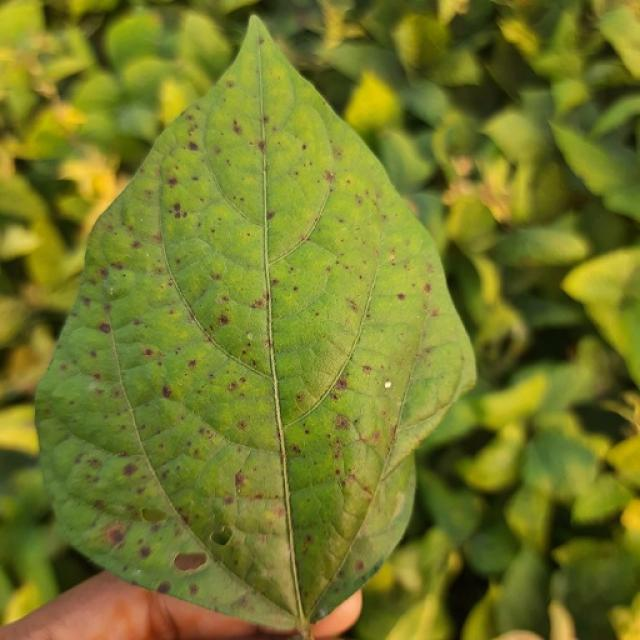Anthracnose: (53, 336, 413, 626), (63, 510, 303, 636), (201, 46, 333, 251), (255, 37, 300, 636), (312, 460, 422, 628), (161, 129, 253, 275), (42, 343, 152, 459), (564, 240, 640, 398), (185, 258, 284, 377), (51, 438, 169, 535), (156, 585, 358, 640), (549, 116, 640, 227), (178, 363, 281, 450), (19, 576, 161, 638), (270, 404, 307, 640), (211, 104, 280, 221), (554, 540, 636, 638), (391, 353, 465, 459), (275, 341, 358, 427), (289, 392, 376, 473), (266, 237, 344, 327), (349, 450, 411, 547), (254, 24, 273, 325), (252, 22, 297, 128), (341, 69, 403, 134), (230, 446, 286, 503), (305, 592, 363, 637), (280, 570, 313, 638), (145, 587, 187, 639), (377, 440, 420, 489), (103, 596, 148, 638), (241, 13, 283, 56), (168, 539, 209, 579), (357, 367, 399, 400), (167, 549, 213, 576), (344, 469, 375, 503), (179, 305, 202, 332), (211, 523, 236, 546), (140, 506, 167, 523), (279, 436, 290, 471), (106, 526, 125, 545), (296, 621, 313, 638), (334, 414, 351, 431), (106, 283, 123, 299), (313, 604, 330, 620), (122, 462, 138, 477), (369, 561, 382, 576), (157, 581, 171, 594), (87, 381, 101, 393), (184, 310, 196, 324), (296, 631, 314, 640), (98, 322, 111, 334), (139, 545, 151, 558), (179, 512, 191, 524), (232, 121, 242, 135), (162, 386, 173, 398), (348, 299, 358, 312), (171, 203, 182, 214), (336, 379, 347, 390), (167, 176, 178, 187), (263, 290, 271, 305), (189, 583, 199, 595), (253, 298, 264, 308), (98, 267, 108, 278), (256, 140, 265, 152), (355, 560, 364, 572), (219, 315, 229, 325), (188, 141, 198, 151), (237, 420, 247, 430), (361, 365, 372, 374), (144, 348, 154, 357), (131, 240, 141, 249), (423, 283, 431, 294), (266, 211, 275, 220), (291, 445, 300, 454), (396, 292, 406, 300), (384, 380, 392, 389), (327, 171, 335, 180), (258, 36, 265, 45), (246, 332, 253, 340), (390, 255, 396, 263), (304, 429, 310, 435)
Blackgram: (36, 18, 475, 630)
